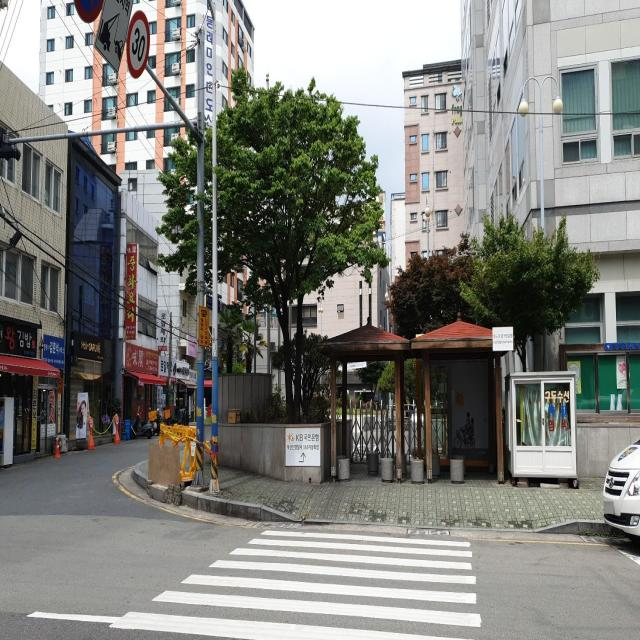횡단보도: (108, 527, 483, 639)
